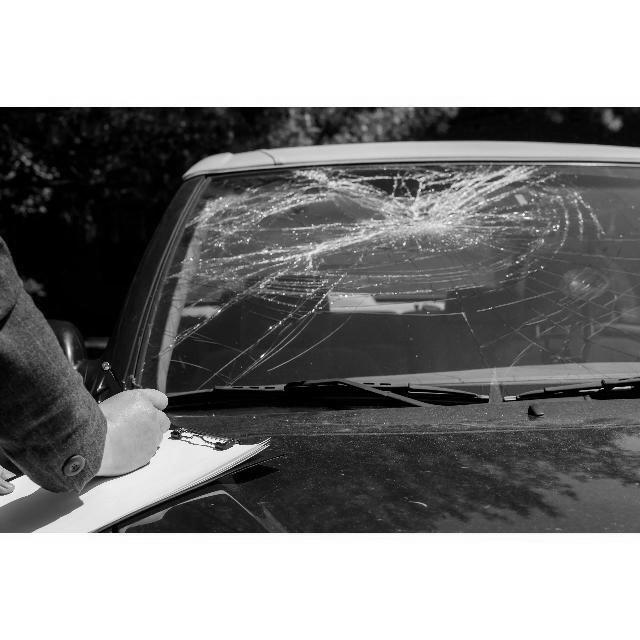Front-windscreen-damage: (205, 161, 615, 361)
